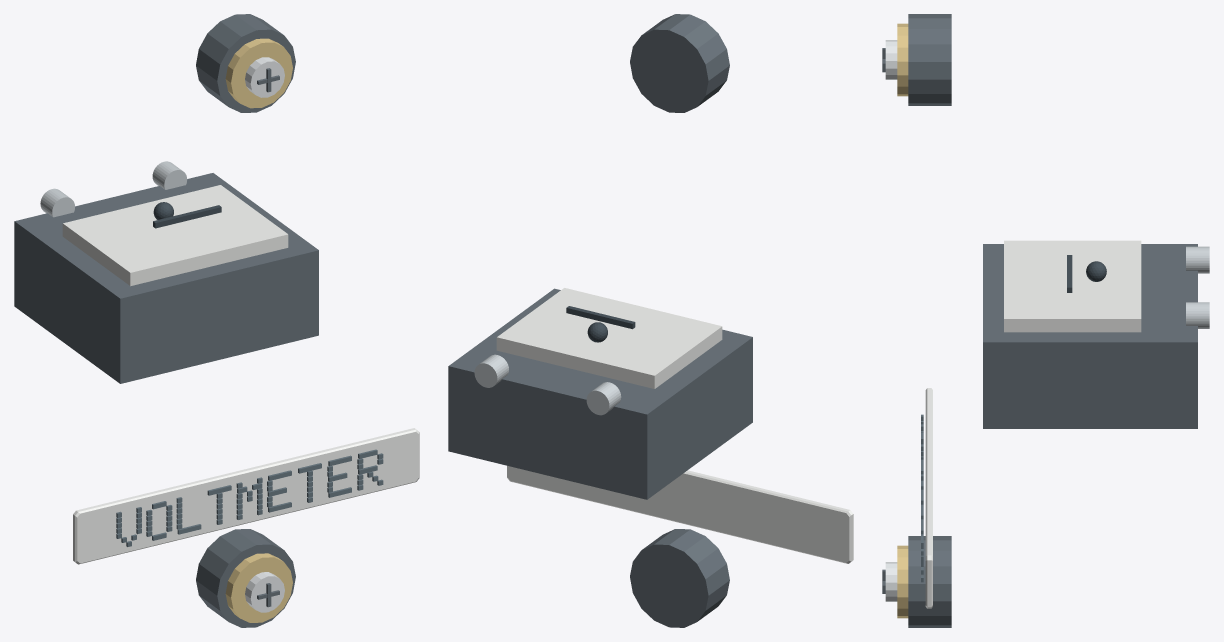
File: voltmeter.glb
The picture shows the model from 3 angles, left to right: view 1: azimuth 30°, elevation 25°; view 2: azimuth 150°, elevation 25°; view 3: azimuth 270°, elevation 25°; orthographic projection.
Parts seen in each view (by area): view 1: voltmeter-preview; view 2: voltmeter-preview; view 3: voltmeter-preview.
Part boxes in pixels (x1=…): voltmeter-preview: x1=14, y1=14, x2=419, y2=627; voltmeter-preview: x1=448, y1=14, x2=853, y2=627; voltmeter-preview: x1=882, y1=14, x2=1209, y2=627.
Bounding box in the file's own units: 1.37 × 2.27 × 1.11.
